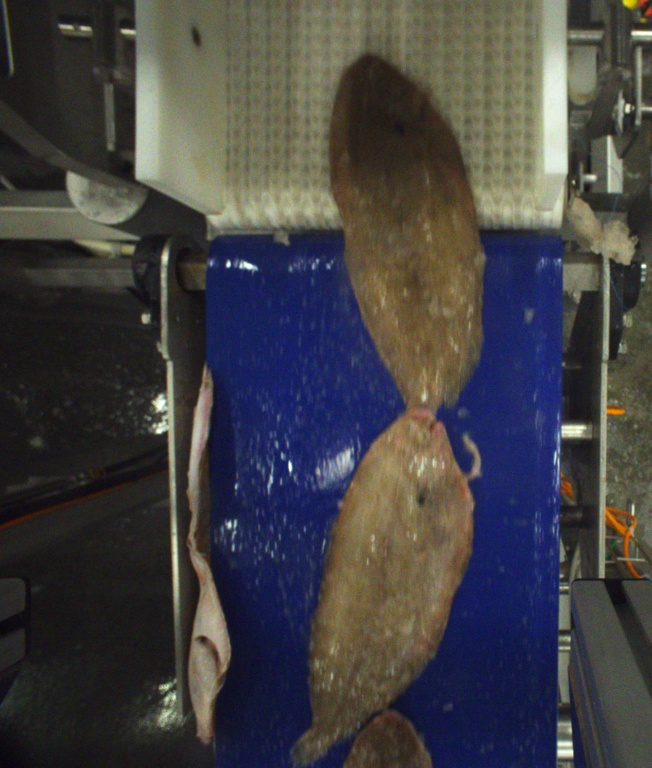SOL: (295, 408, 477, 762)
